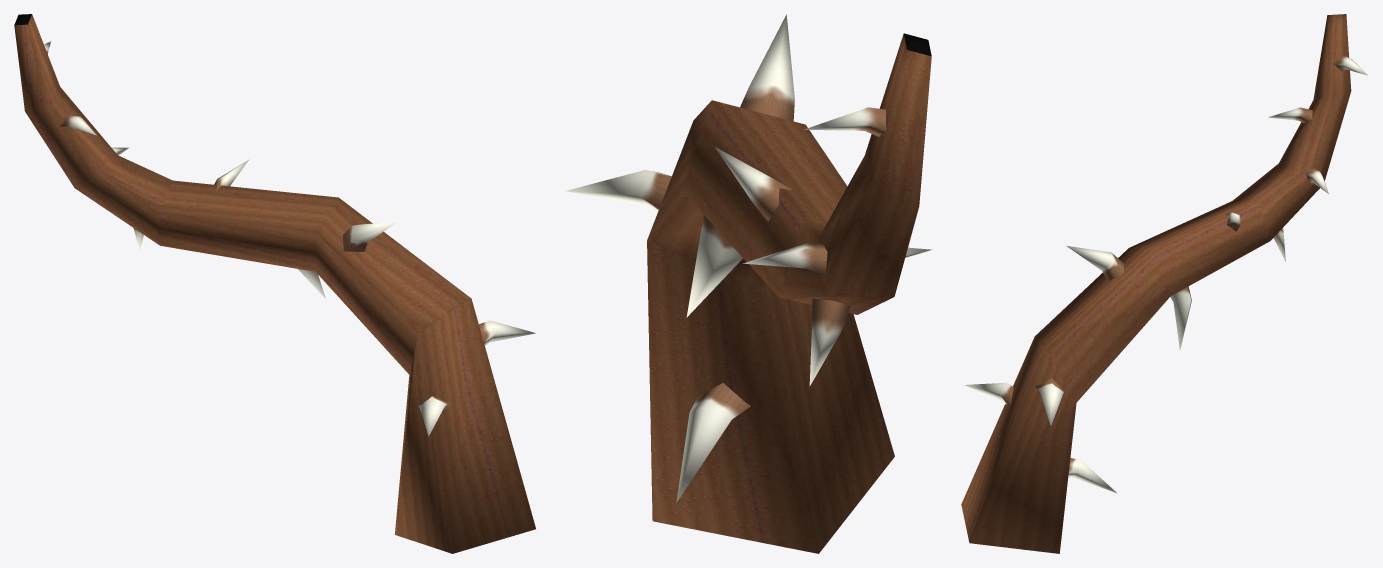
File: Thorn_5.fbx
3 renders of one model, left to right at view 1: azimuth 30°, elevation 25°; view 2: azimuth 150°, elevation 25°; view 3: azimuth 270°, elevation 25°, orthographic. The views are drawn at different scales.
Parts seen in each view (by area): view 1: Thorn5; view 2: Thorn5; view 3: Thorn5.
Boxes of the visible parts, x1,y1,x2,y2 form: Thorn5: (14,14,535,553); Thorn5: (566,14,931,553); Thorn5: (961,14,1367,553).
Size of the model in its own units: 296 by 355 by 319.
